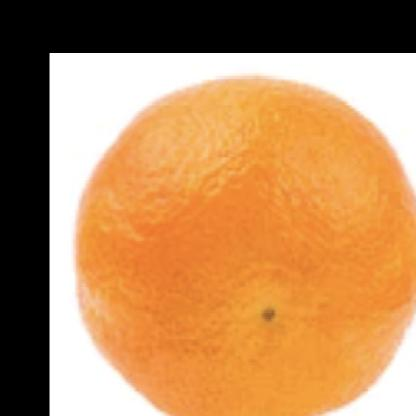rotten: (74, 72, 416, 416)
